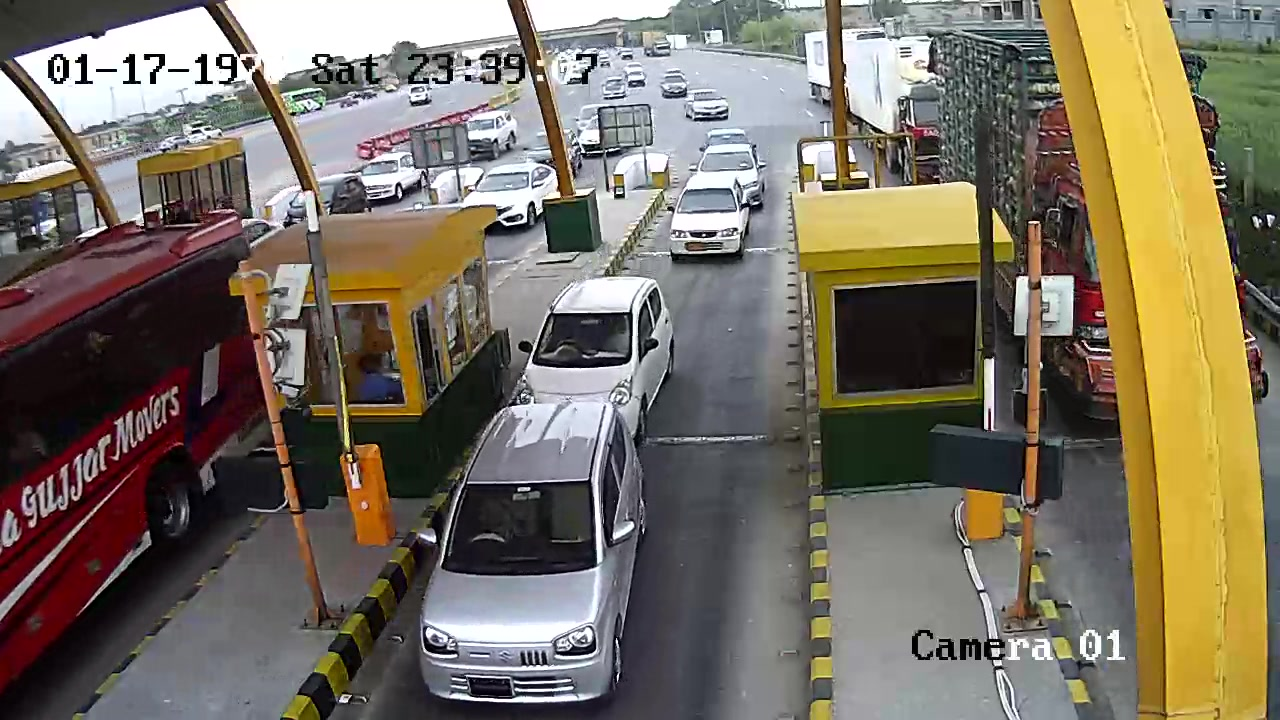F1: (407, 389, 663, 707)
